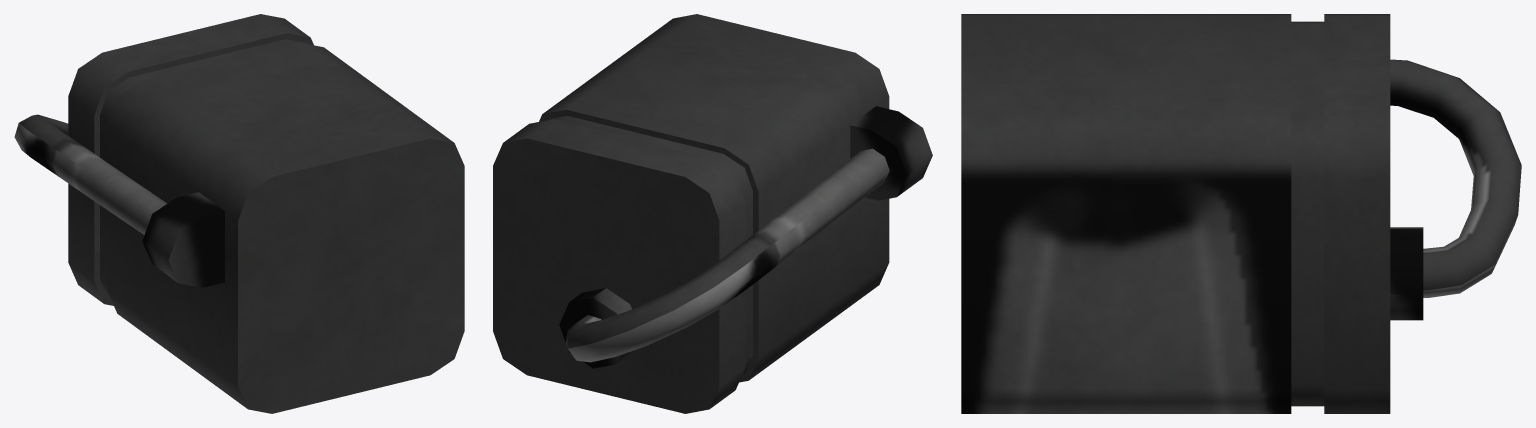
The model's file is small_battery.fbx.
3 views of the same model, side by side, from view 1: azimuth 30°, elevation 25°; view 2: azimuth 150°, elevation 25°; view 3: azimuth 270°, elevation 25° (orthographic). The views are drawn at different scales.
Parts seen in each view (by area): view 1: m; view 2: m; view 3: m.
Boxes of the visible parts, x1=… form: m: x1=14, y1=14, x2=464, y2=413; m: x1=493, y1=14, x2=932, y2=413; m: x1=961, y1=14, x2=1521, y2=413.
Bounding box in the file's own units: 0.1563 × 0.125 × 0.2123.
